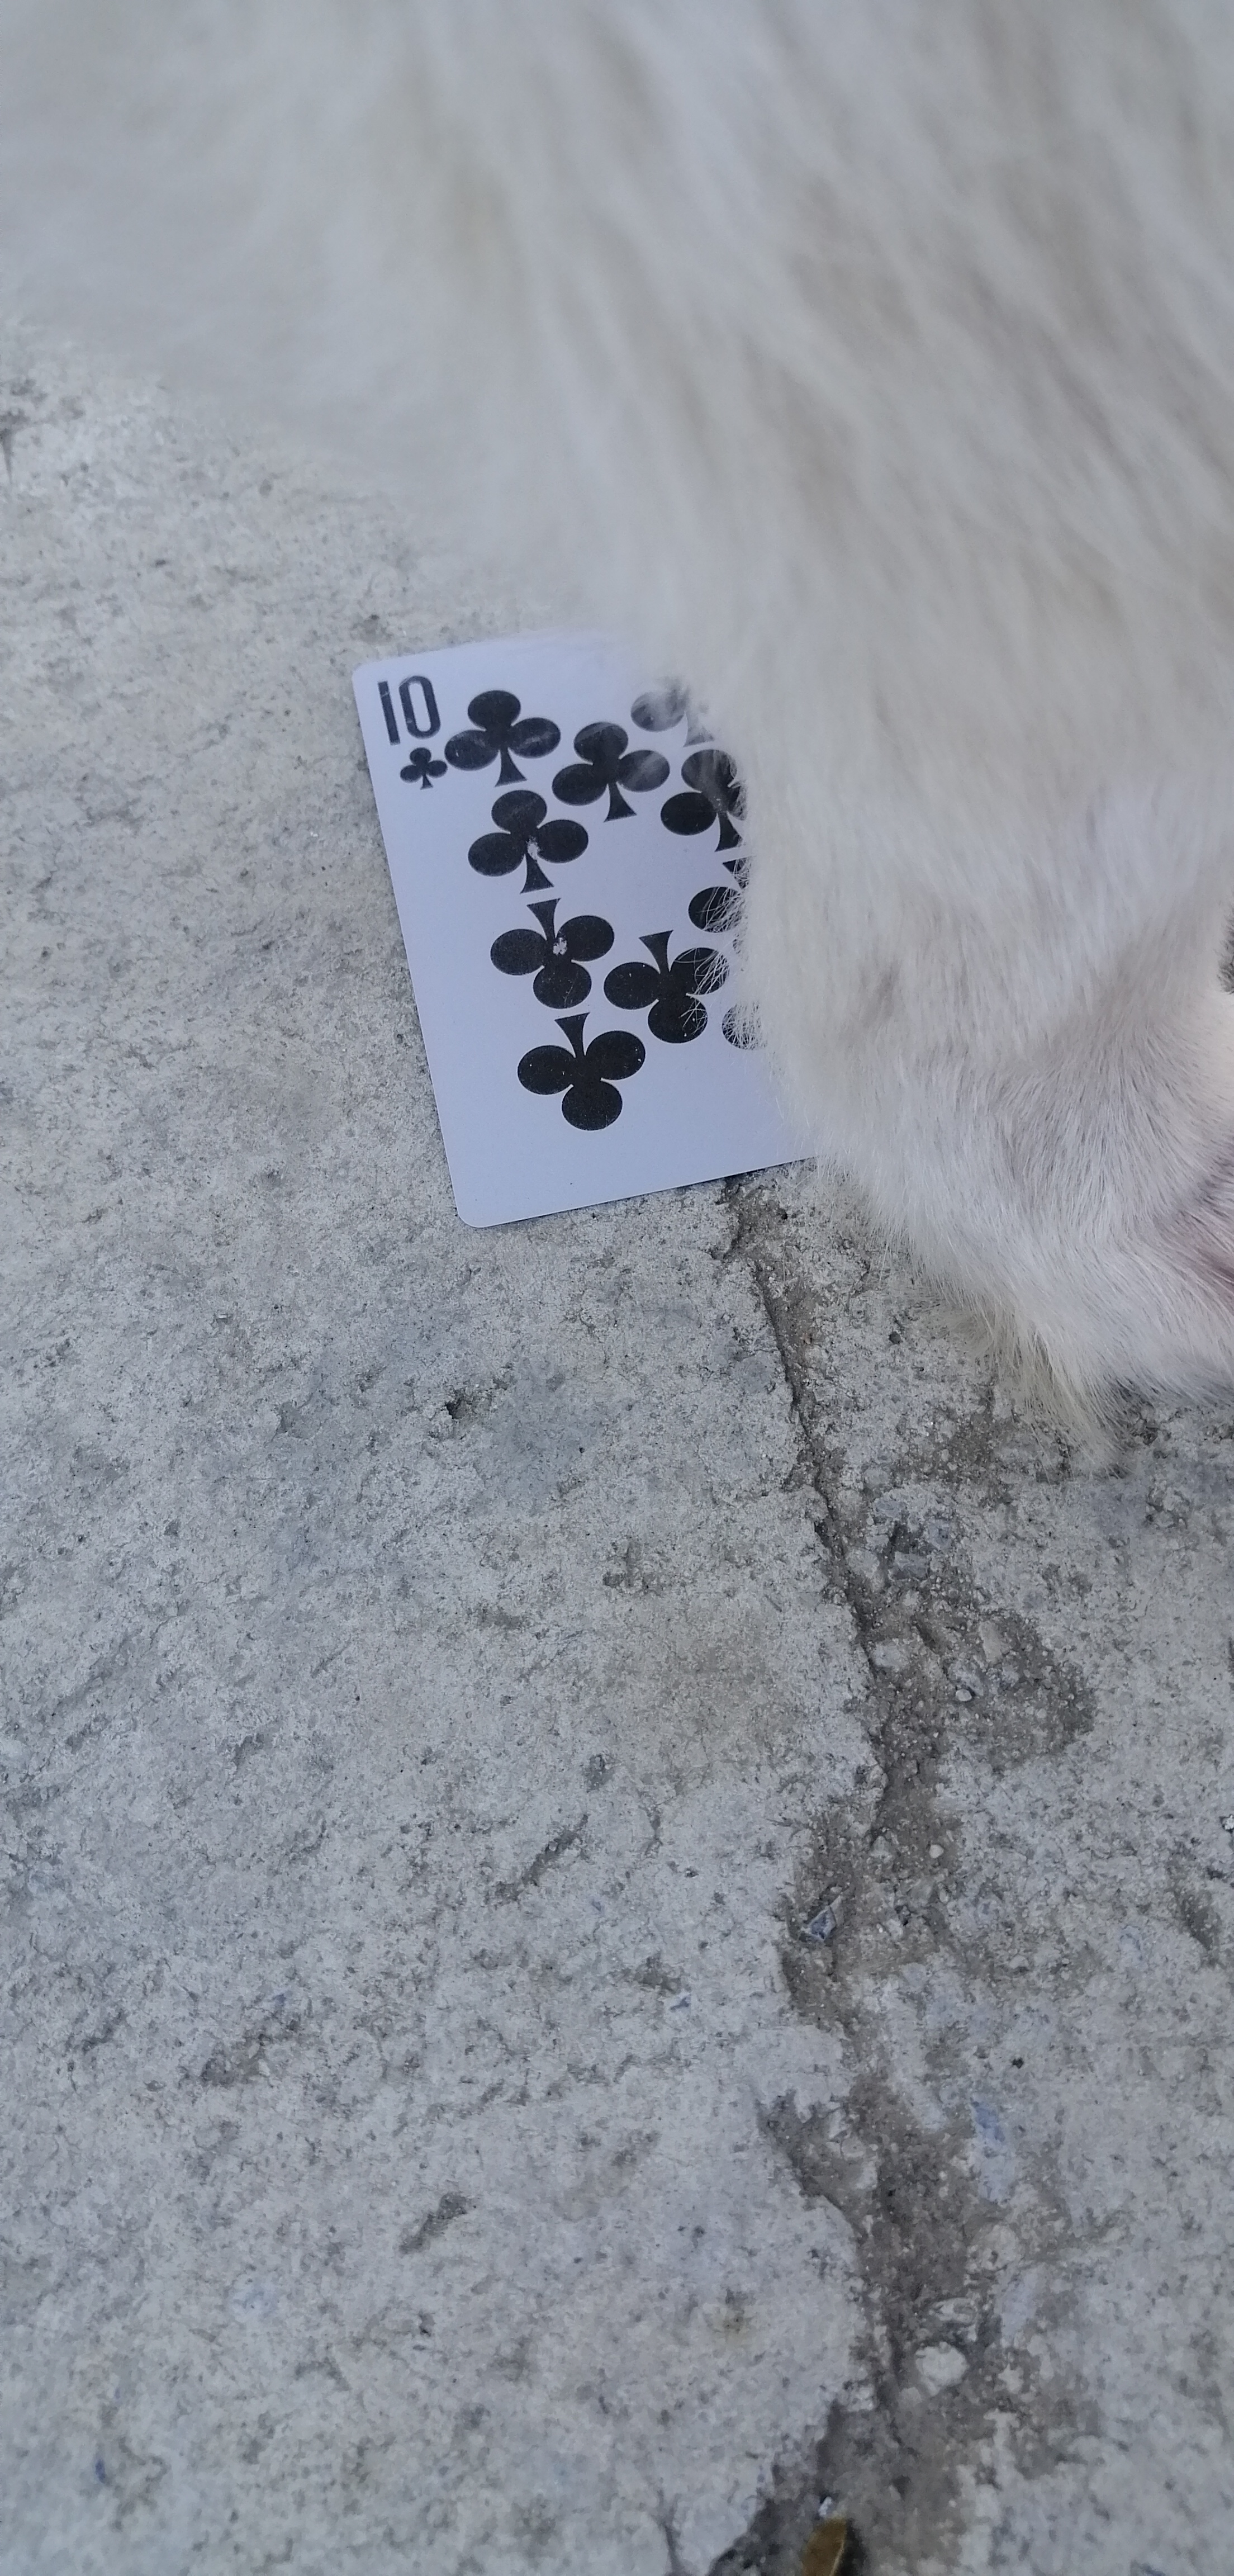ten: (327, 614, 881, 1252)
